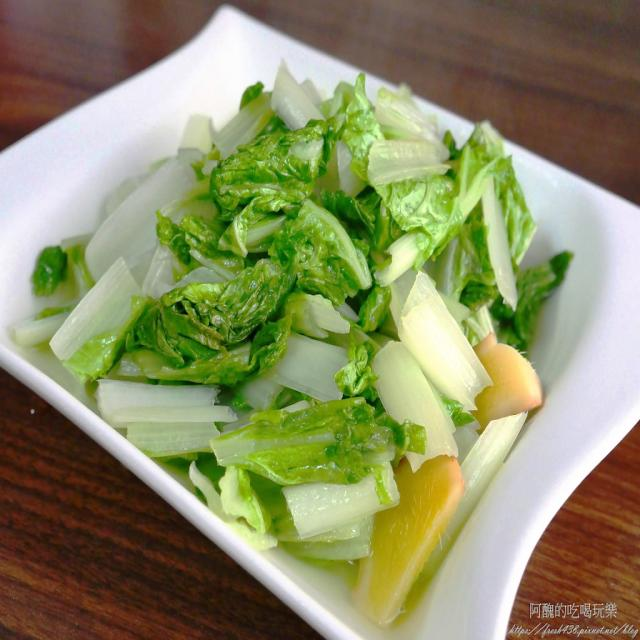chinese_cabbage: (99, 90, 544, 560)
